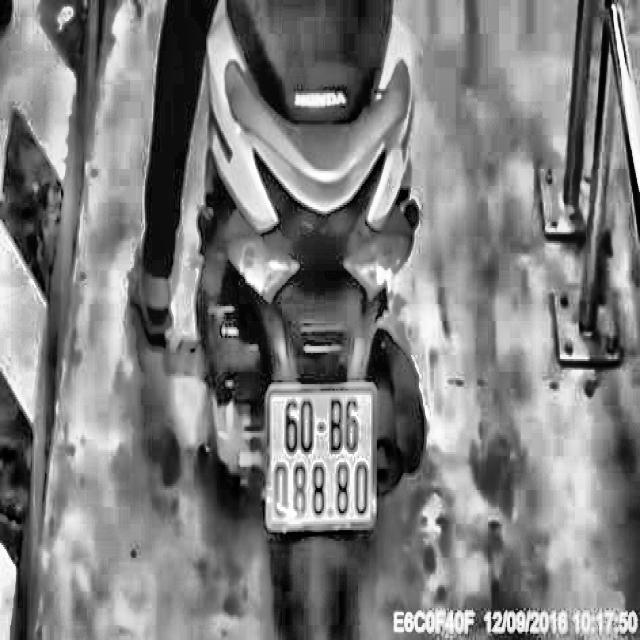plate: (262, 375, 382, 536)
